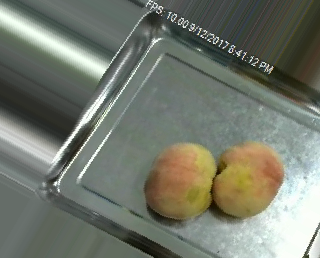Peach: (144, 141, 216, 219), (210, 140, 281, 219)
